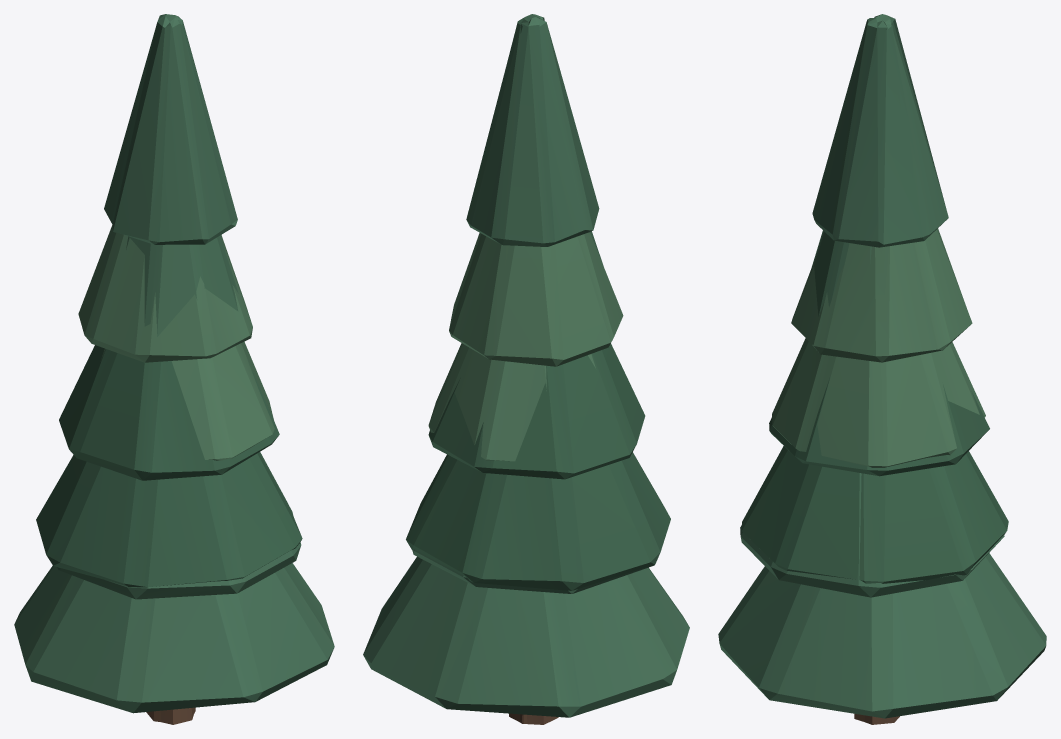
File: tree.conifer.glb
3 views of the same model, side by side, from view 1: azimuth 30°, elevation 25°; view 2: azimuth 150°, elevation 25°; view 3: azimuth 270°, elevation 25° (orthographic).
Parts seen in each view (by area): view 1: tree.conifer.v0.canopy, tree.conifer.v2.canopy; view 2: tree.conifer.v0.canopy, tree.conifer.v2.canopy; view 3: tree.conifer.v0.canopy, tree.conifer.v2.canopy.
Part boxes in pixels (x1=…): tree.conifer.v0.canopy: x1=14, y1=235, x2=334, y2=713; tree.conifer.v2.canopy: x1=57, y1=14, x2=301, y2=599; tree.conifer.v0.canopy: x1=363, y1=231, x2=689, y2=717; tree.conifer.v2.canopy: x1=412, y1=14, x2=654, y2=593; tree.conifer.v0.canopy: x1=718, y1=230, x2=1046, y2=718; tree.conifer.v2.canopy: x1=740, y1=14, x2=1004, y2=597.
Size of the model in its own units: 1.61 by 3.73 by 1.59.
